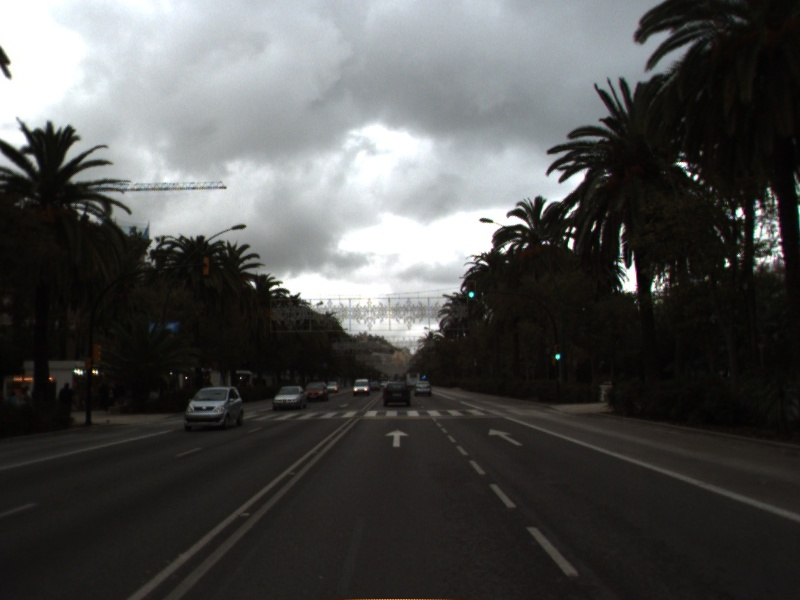STRAIGHT: (486, 426, 526, 448), (383, 427, 411, 449)
